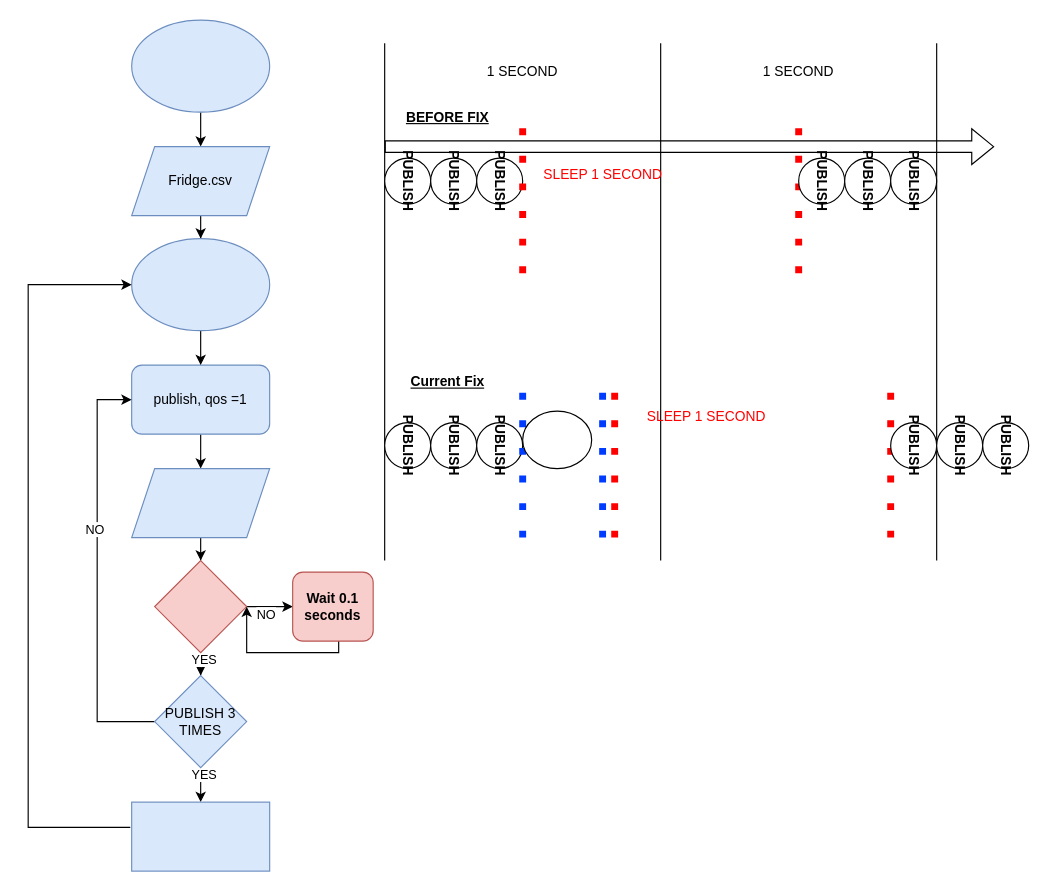
The diagram is 1049 pixels wide and 891 high, and some of its shapes have lost their labels. Each missing label, with the centre of its shape:
"logic.py" belongs at point (200, 65).
"NETWORK ISSUE" belongs at point (557, 439).
"PUBACK received" belongs at point (200, 606).
"Publish loop" belongs at point (200, 284).
"publish to AWS" belongs at point (200, 502).
"Wait 1 second" belongs at point (200, 836).
